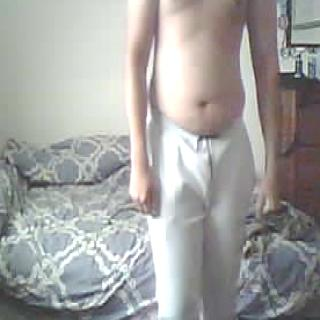White Sweatpants: (139, 105, 260, 320)
